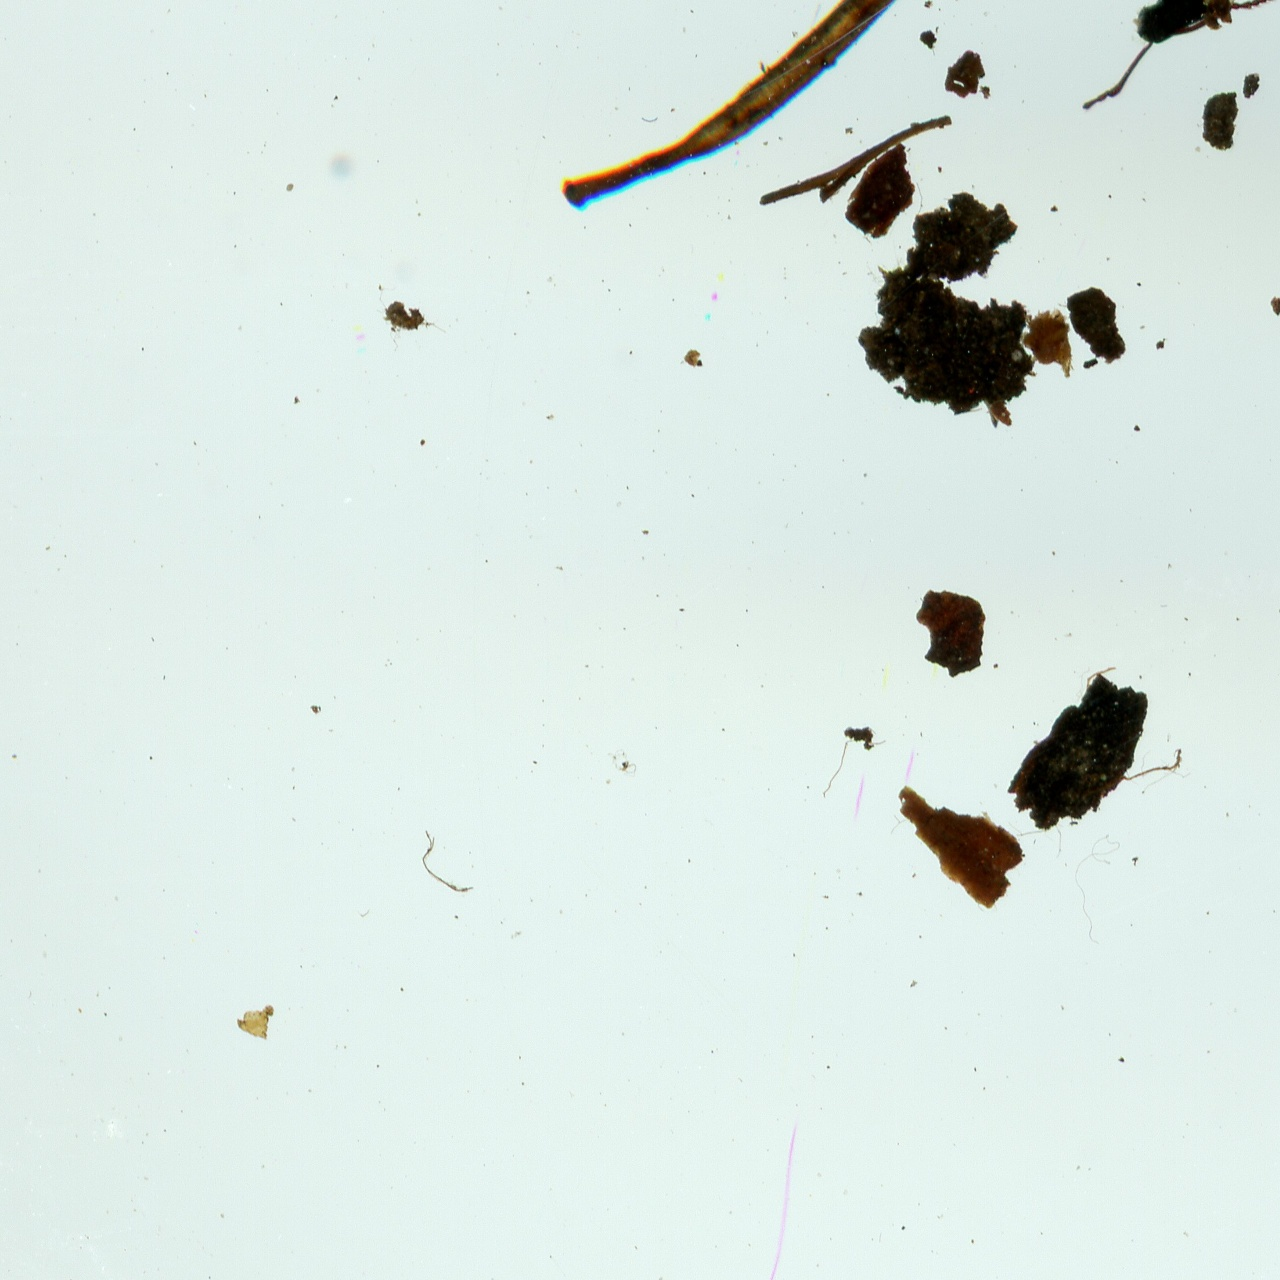arthropod: (979, 0, 1280, 120)
